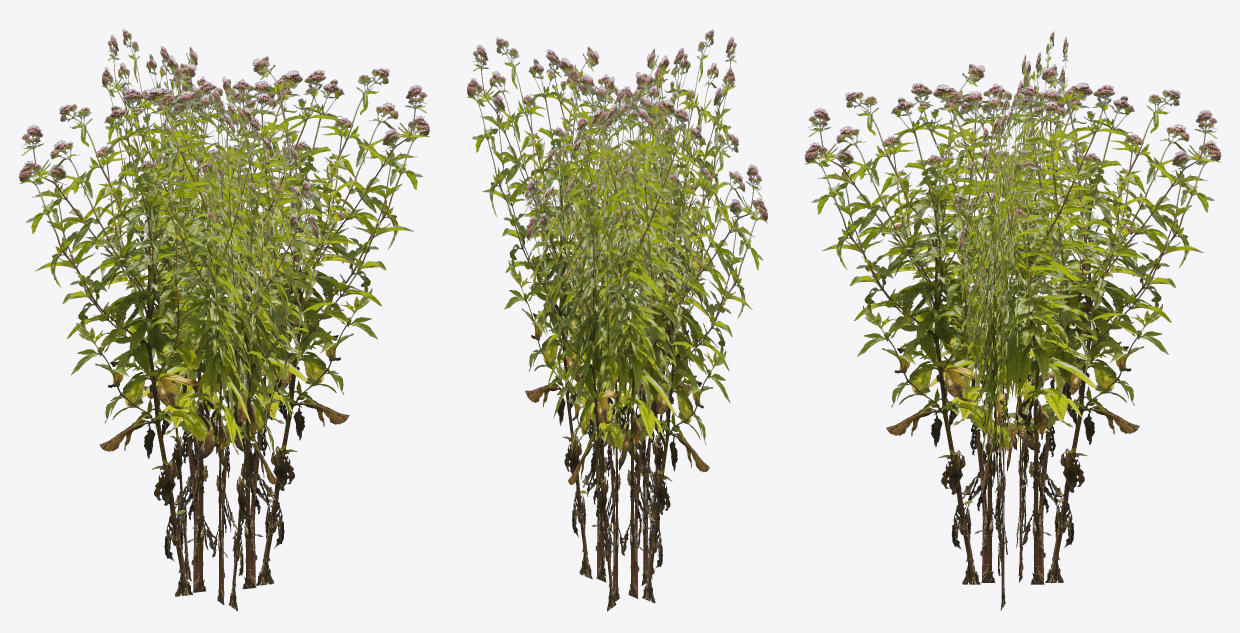
File: SM_Plant_Grass_03.fbx
The picture shows the model from 3 angles, left to right: view 1: azimuth 30°, elevation 25°; view 2: azimuth 150°, elevation 25°; view 3: azimuth 270°, elevation 25°; orthographic projection. The views are drawn at different scales.
Visible parts, largest first — view 1: SM_Plant_Grass_03; view 2: SM_Plant_Grass_03; view 3: SM_Plant_Grass_03.
Part boxes in pixels (x1,y1,x2,y2): SM_Plant_Grass_03: (19, 28, 429, 611); SM_Plant_Grass_03: (467, 28, 767, 611); SM_Plant_Grass_03: (804, 30, 1221, 610).
Bounding box in the file's own units: 261 × 367 × 270.
